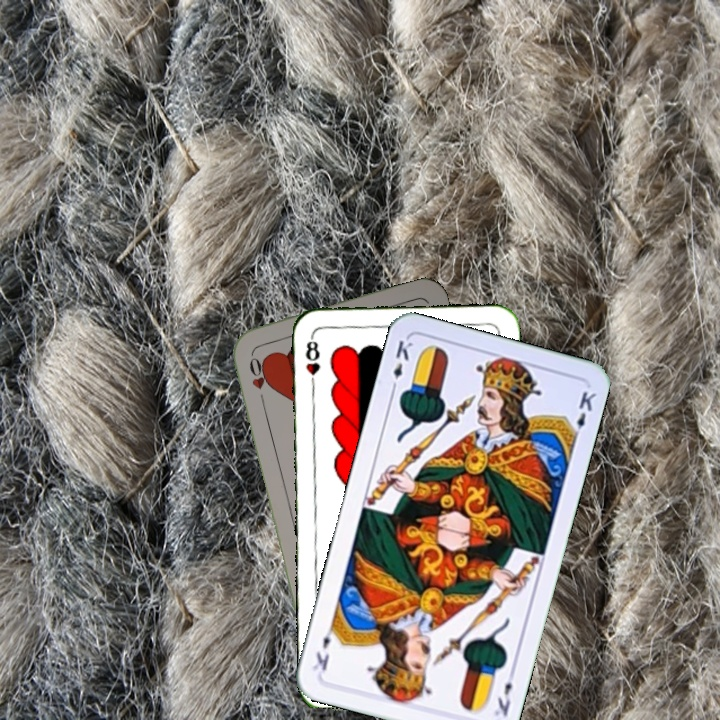EK: (387, 336, 415, 395), (490, 665, 518, 719)
H8: (301, 332, 322, 391)
HO: (245, 348, 270, 407)
